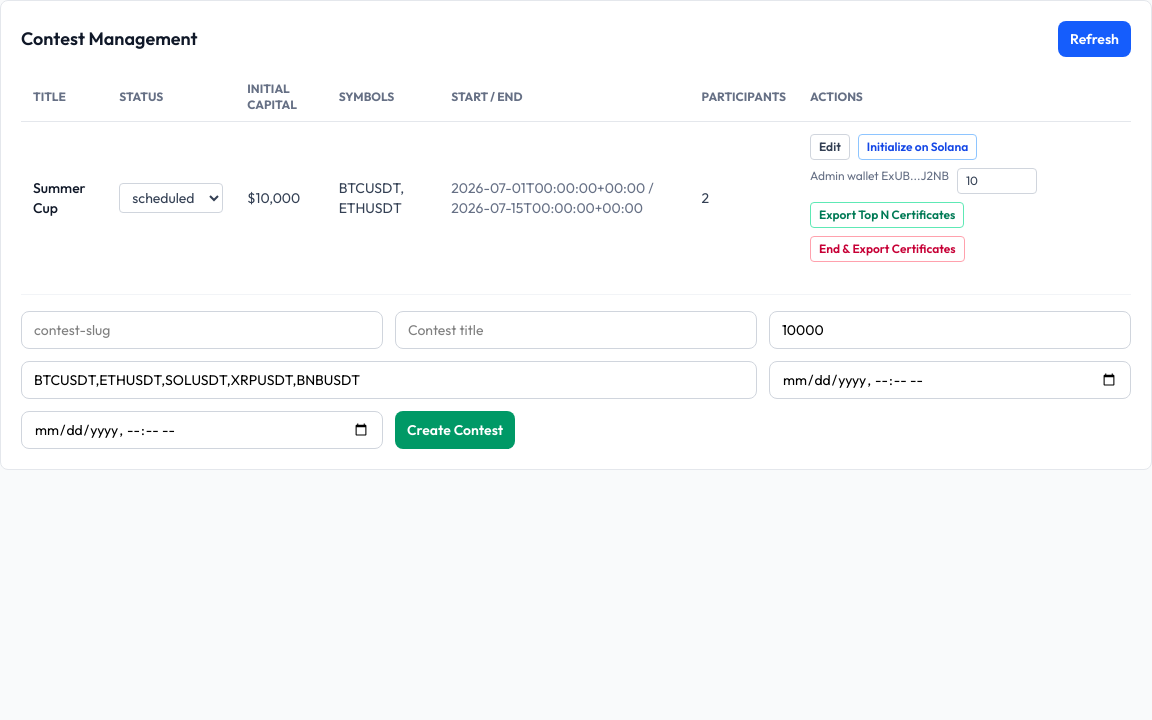
Test case: TabContests › requires an active signer before publishing a certificate root
Click the button with test id "export-certificates-summer-cup". click: x=887, y=215
box: [810,202,964,228]
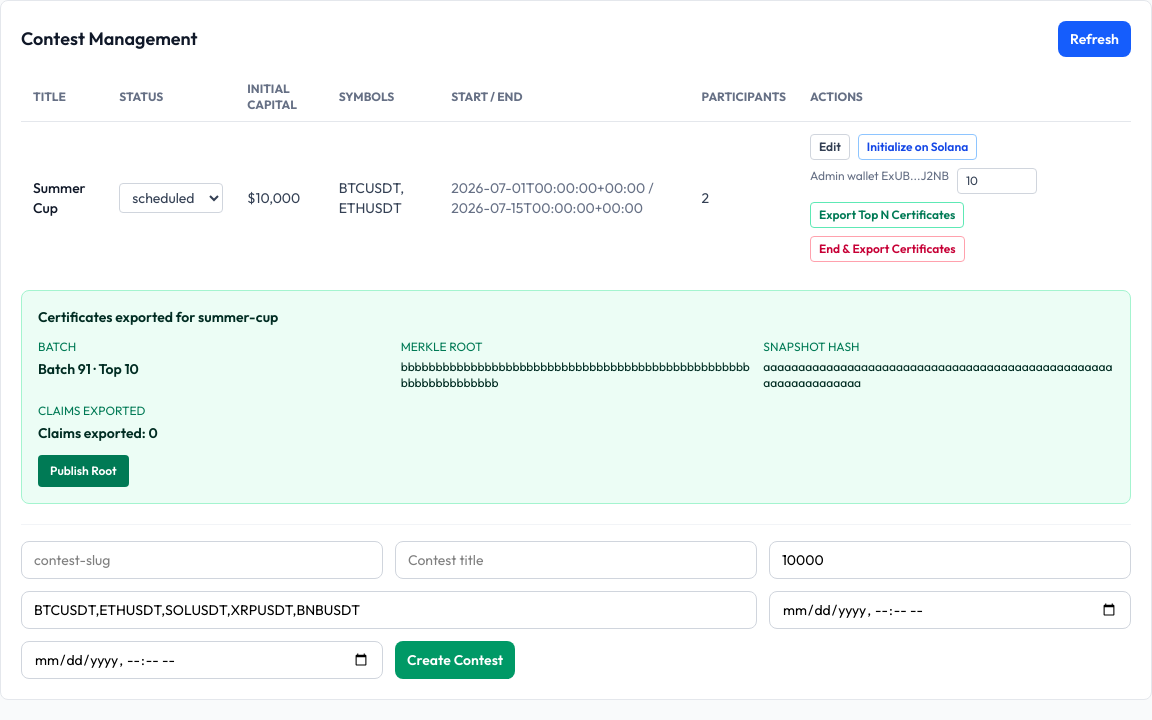
Click the button with test id "publish-certificate-root". click: x=83, y=471
box: [38,455,129,487]
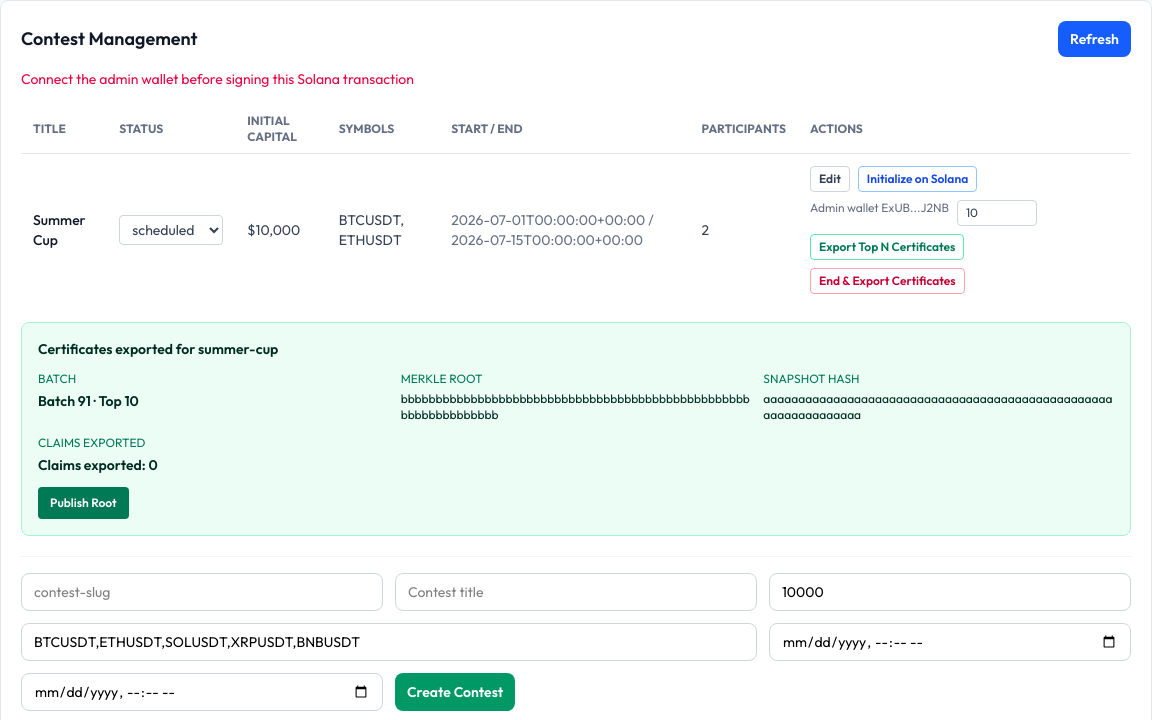
Expected: the text "Connect the admin wallet before signing this Solana transaction" is shown, [21,70,414,88]
